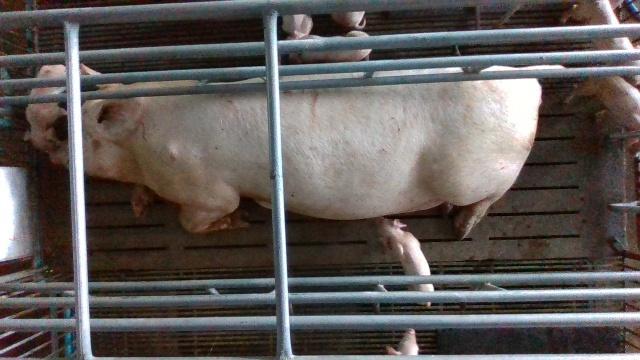piglet: (561, 1, 640, 86), (375, 216, 434, 306), (566, 75, 640, 130), (23, 64, 68, 154), (285, 30, 372, 62)
sow-sleep: (47, 63, 563, 241)
